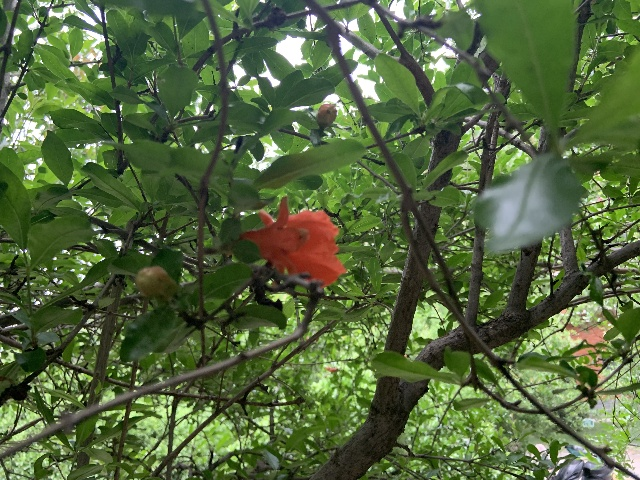bud: (134, 264, 176, 301), (316, 103, 338, 127), (329, 367, 337, 371), (325, 366, 329, 370)
flower: (240, 194, 346, 288)
